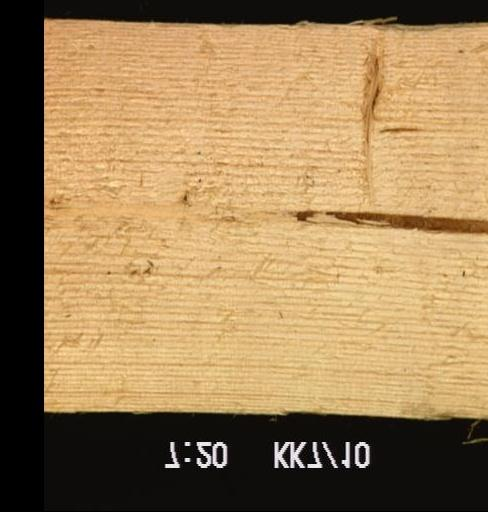small_knot: (165, 186, 203, 216), (44, 184, 79, 216)
